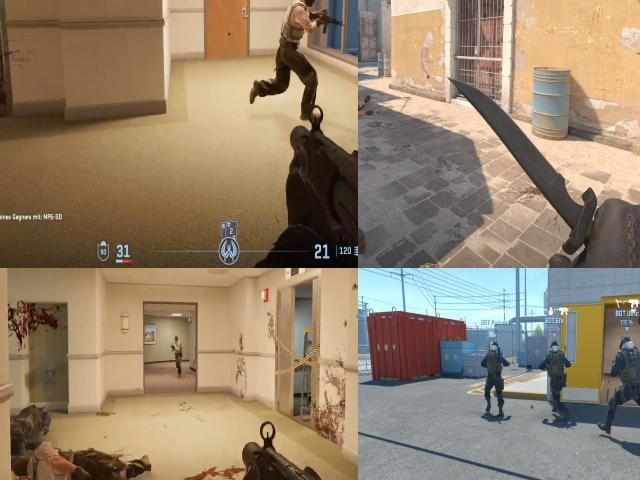CT: (613, 333, 640, 433), (540, 338, 570, 420), (486, 342, 506, 416)
CT-Head: (617, 333, 634, 352), (550, 340, 560, 353), (490, 341, 500, 353)
Dead: (20, 442, 141, 480), (1, 388, 64, 458), (358, 90, 374, 122)
T: (274, 1, 328, 58), (168, 332, 188, 362)
T-Head: (286, 0, 320, 8), (171, 334, 181, 344)
